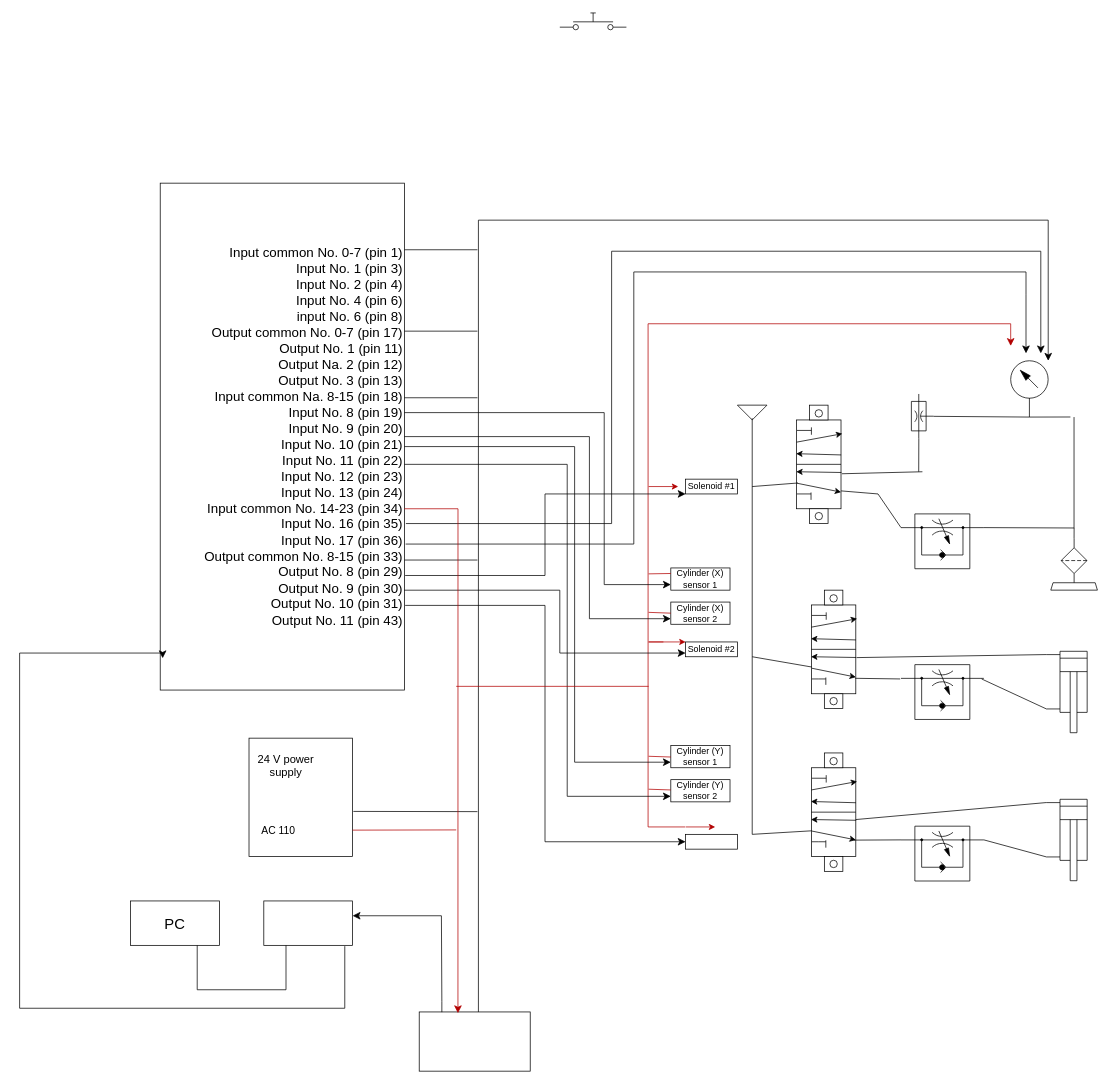
The diagram is 1111 pixels wide and 1084 high, and some of its shapes have lost their labels. Each missing label, with the box of its shape:
Solenoid #3: (685, 834, 737, 849)
Teach Pendant: (418, 1011, 530, 1071)
V N GND -V +V: (248, 737, 353, 857)
WIFI HUB: (263, 900, 353, 945)
